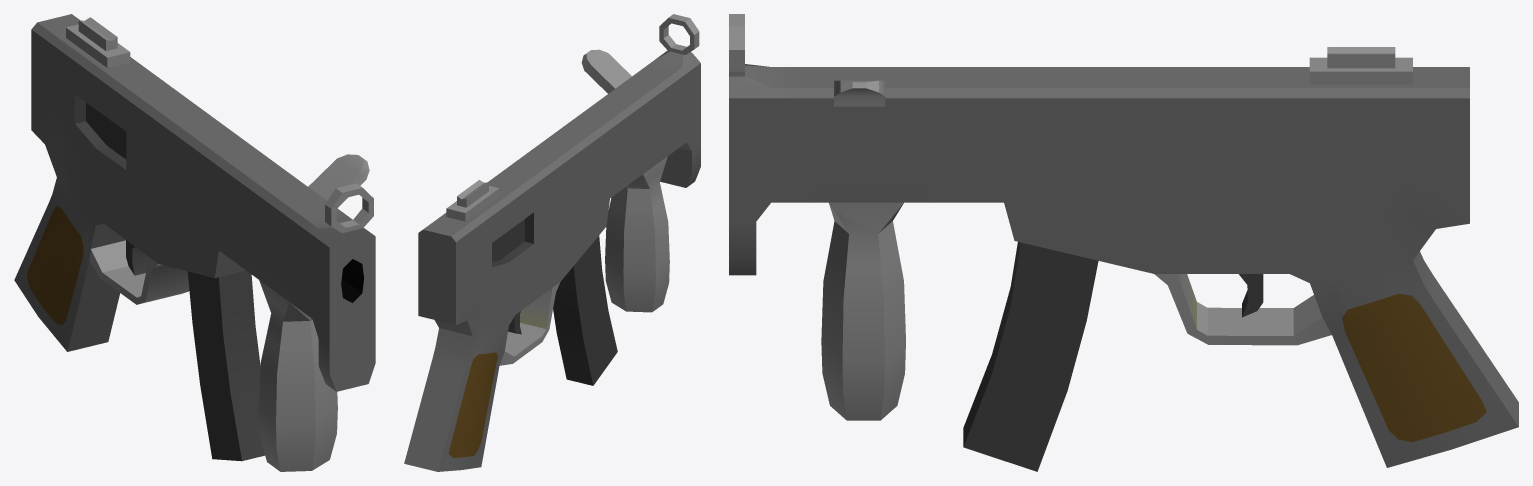
The picture shows the model from 3 angles, left to right: view 1: azimuth 30°, elevation 25°; view 2: azimuth 150°, elevation 25°; view 3: azimuth 270°, elevation 25°; orthographic projection. The views are drawn at different scales.
Visible parts, largest first — view 1: submachine_gun_3; view 2: submachine_gun_3; view 3: submachine_gun_3.
Part boxes in pixels (x1,y1,x2,y2): submachine_gun_3: [14, 14, 375, 471]; submachine_gun_3: [404, 14, 700, 471]; submachine_gun_3: [729, 14, 1518, 471].
Bounding box in the file's own units: 19.66 × 69.92 × 113.
Materials: 1 (1 with a texture image).
